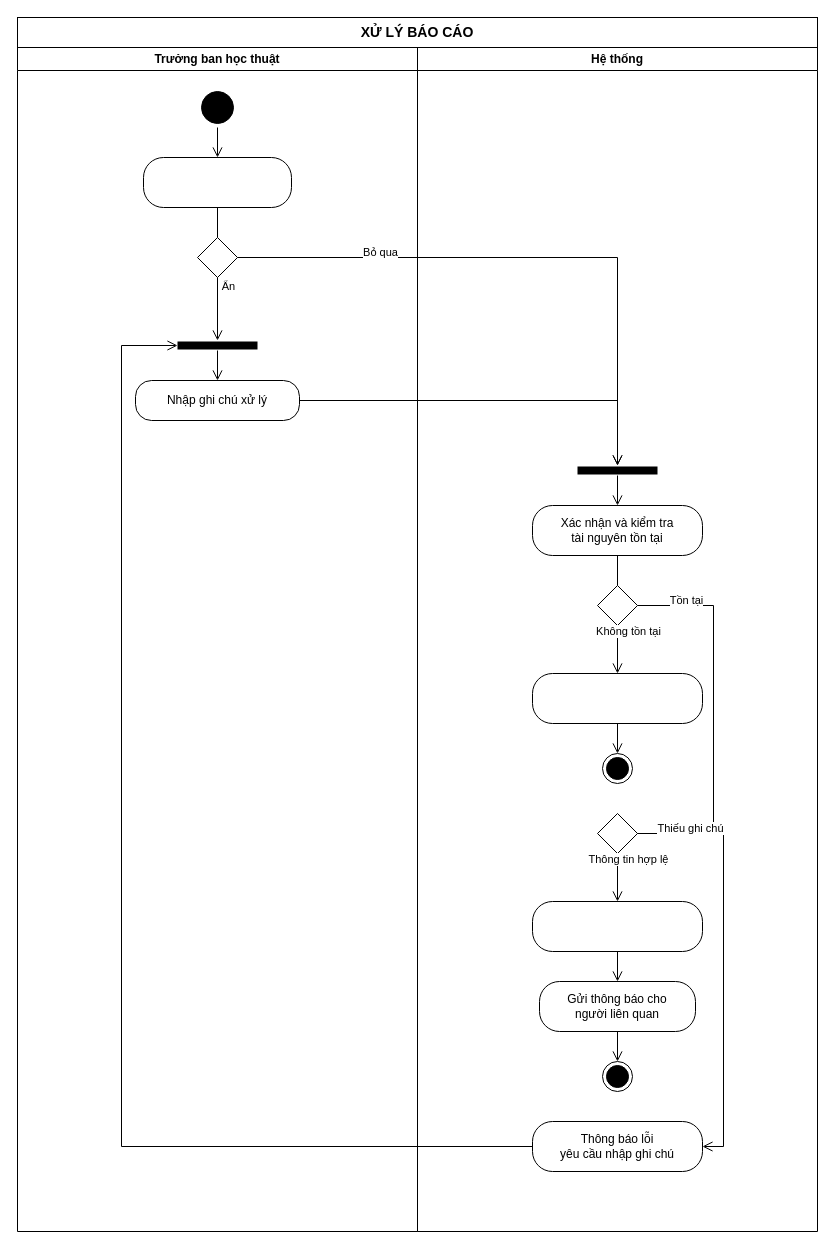
Image size: 835x1249. Some labels were removed from this diagram. Here are the shapes that lost their labels. From the top down, the centre of each, then its label:
point (217, 182): Chọn Bỏ qua hoặc Ẩn tài nguyên
point (617, 698): Thông báo tài nguyên không tồn tại
point (617, 926): Cập nhật trạng thái và ẩn tài nguyên (nếu có)
